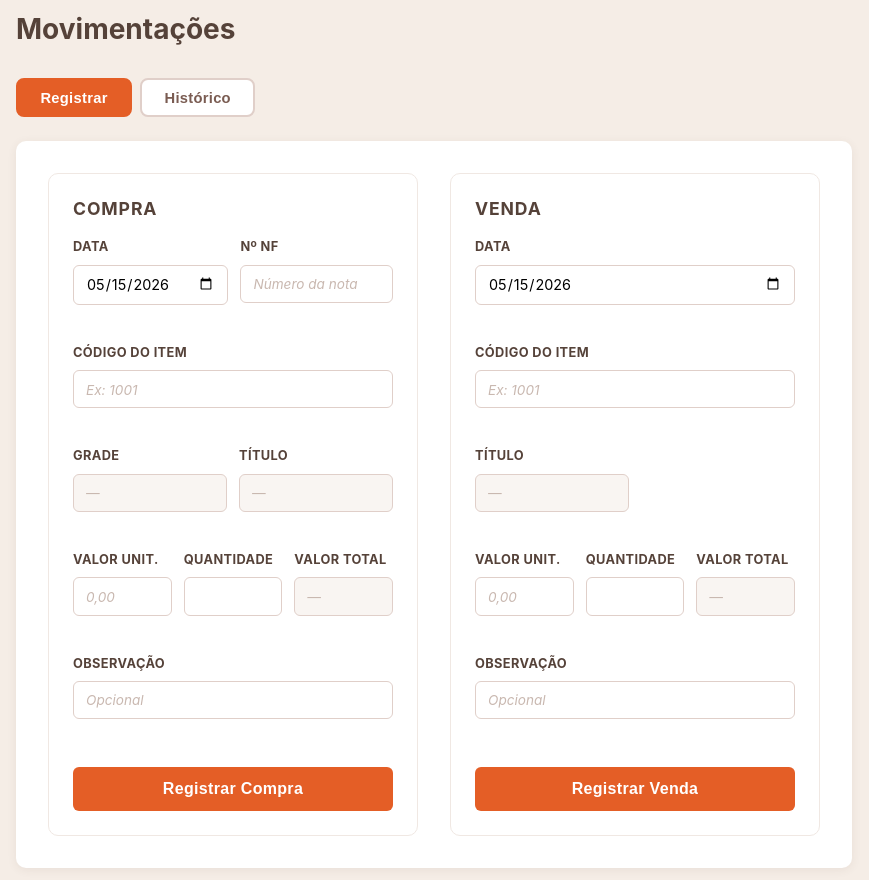
Test: Movimentacoes › troca para seção Histórico ao clicar na aba
The width and height of the screenshot is (869, 880).
Click the button "Histórico" at (198, 98), box x1=140 y1=78 x2=255 y2=117
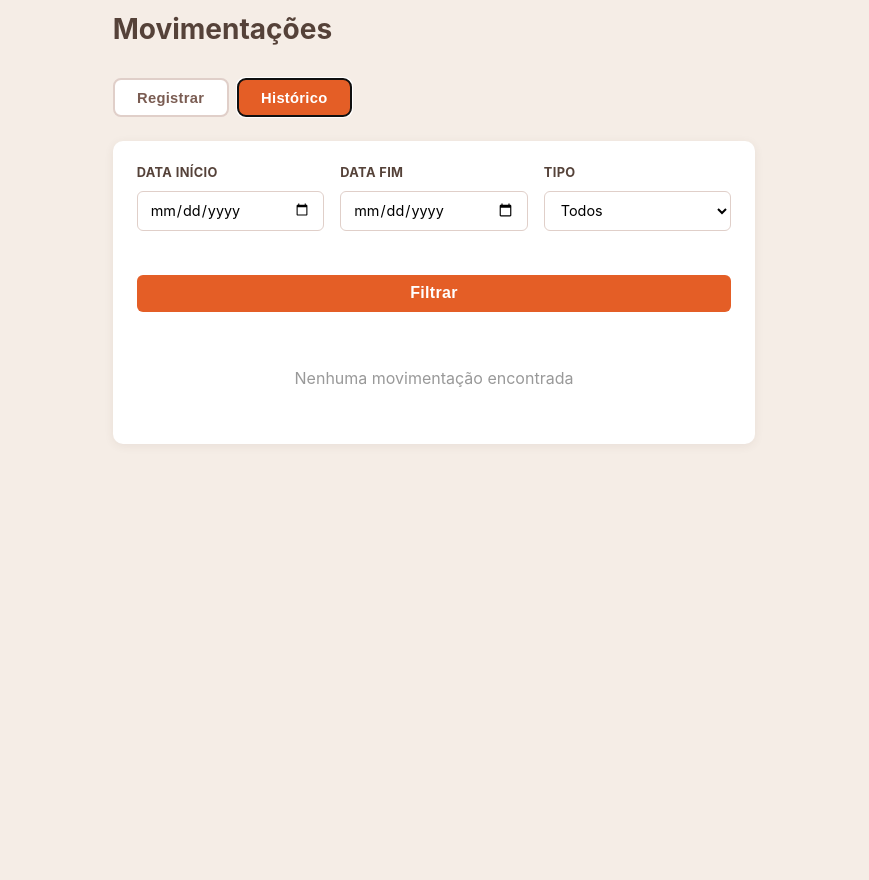
Check: the heading "Compra" is gone
